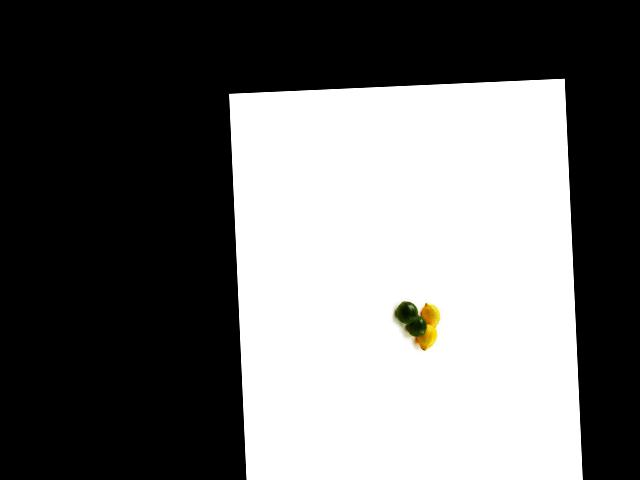lemon: (395, 298, 419, 325)
